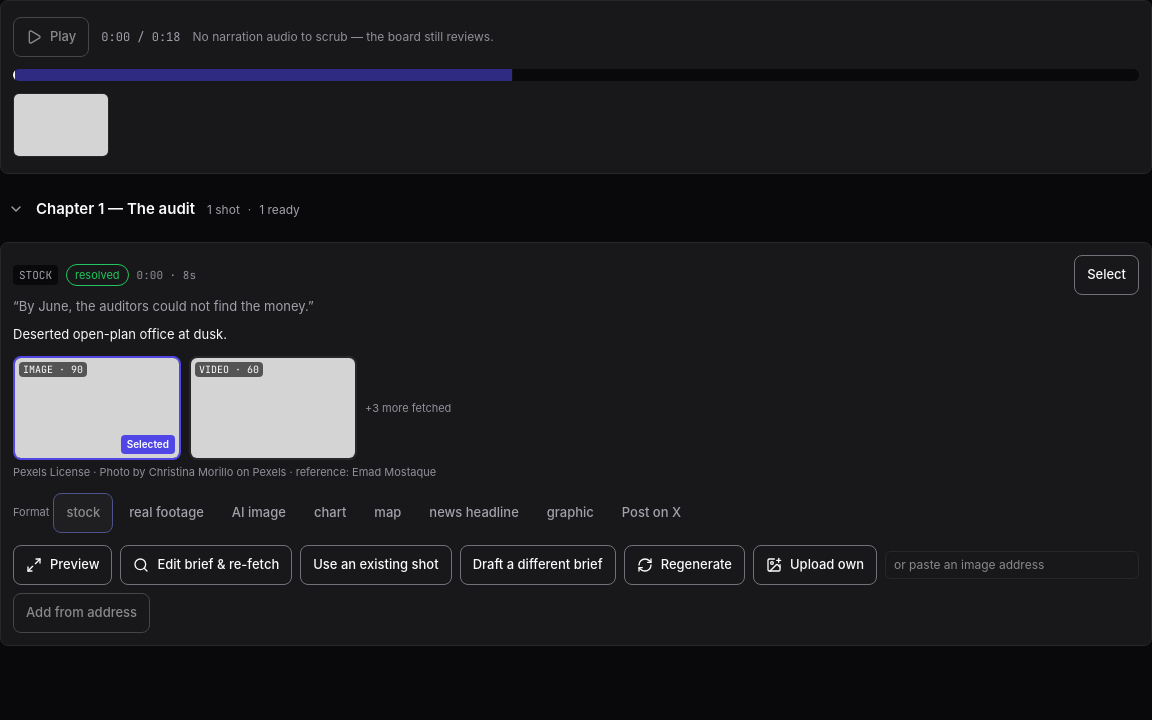
Test case: VisualBoard › enlarges the chosen candidate from the Preview button, at full size
This screenshot has width=1152, height=720.
Click the button "Preview": {"x": 63, "y": 564} [13,544,112,584]
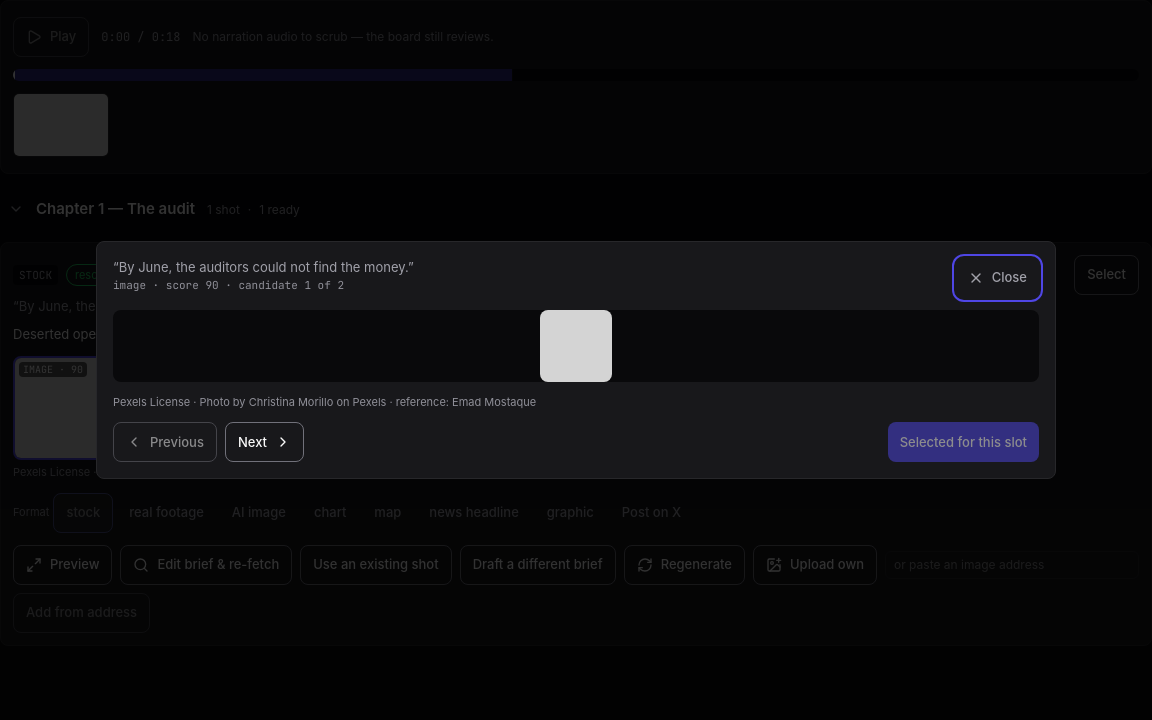
expect the text "image · score 90 · candidate 1 of 2" is shown: met, box [113,278,344,292]
expect the button "Selected for this slot" is disabled: met, box [888,422,1039,462]
Click the button "Close": {"x": 997, "y": 278} [956,258,1039,298]
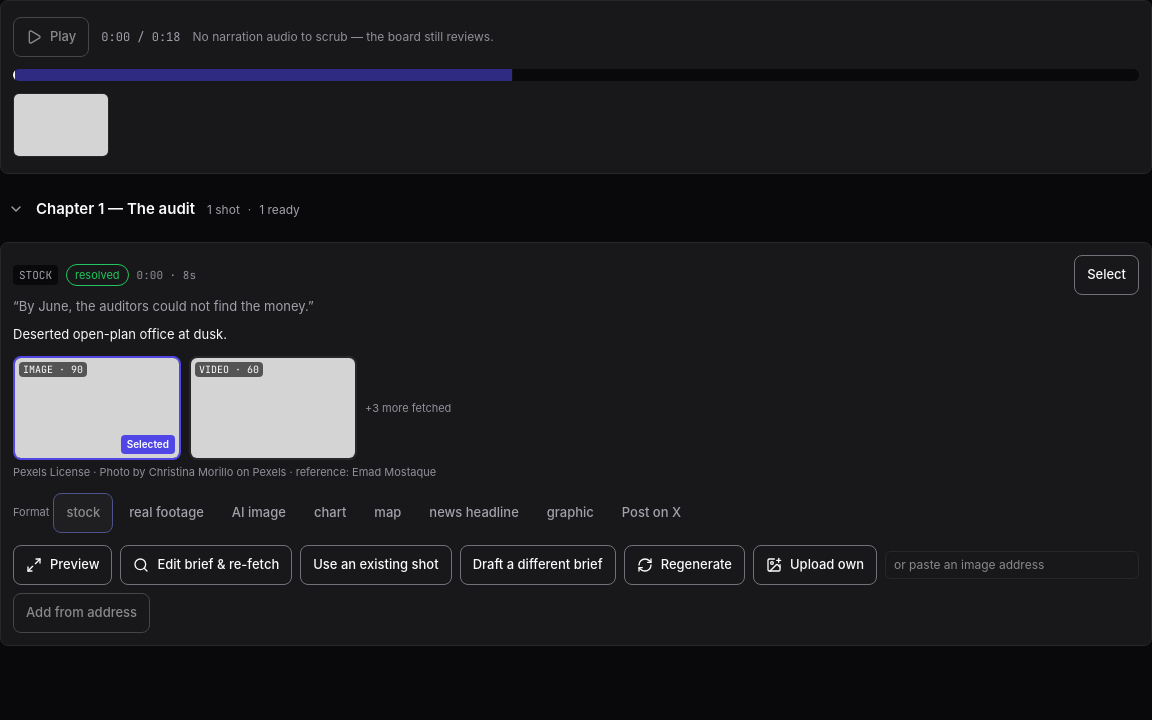
expect the dialog is gone: met
